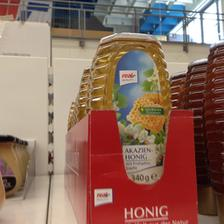Honig: (83, 31, 173, 205)
